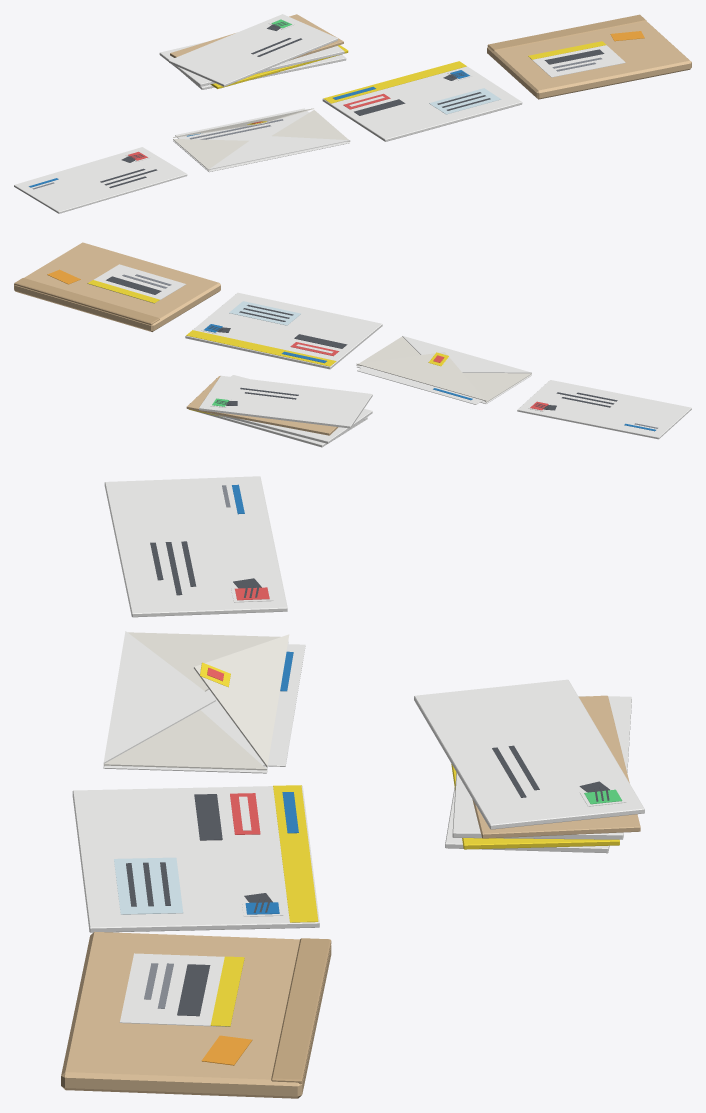
File: lettere_e_busta.fbx
3 views of the same model, one above another, from view 1: azimuth 30°, elevation 25°; view 2: azimuth 150°, elevation 25°; view 3: azimuth 270°, elevation 25° (orthographic). The views are drawn at different scales.
Visible parts, largest first — view 1: Busta_Imb_Corpo, Lettera_Rac_Corpo, Pila_Busta_5, Lettera_Std_Corpo, Busta_Lembo_Basso, Foglio_Lettera_Interno, Busta_Imb_Etichetta, Busta_Imb_Bordo_Top, Busta_Lembo_SX, Busta_Lembo_DX, Lettera_Rac_Banda_Gialla, Pila_Busta_3 (+8 smaller); view 2: Busta_Imb_Corpo, Lettera_Rac_Corpo, Pila_Busta_5, Lettera_Std_Corpo, Busta_Lembo_Chiusura, Busta_Imb_Bordo_Top, Busta_Lembo_Basso, Busta_Imb_Etichetta, Pila_Busta_4, Busta_Lembo_SX, Lettera_Rac_Banda_Gialla, Pila_Busta_3 (+6 smaller); view 3: Busta_Imb_Corpo, Lettera_Rac_Corpo, Pila_Busta_5, Lettera_Std_Corpo, Busta_Lembo_Basso, Busta_Lembo_Chiusura, Busta_Lembo_DX, Busta_Imb_Etichetta, Busta_Imb_Bordo_Top, Pila_Busta_4, Lettera_Rac_Banda_Gialla, Busta_Lembo_SX (+9 smaller).
Part boxes in pixels (x1=…): Busta_Imb_Corpo: x1=487, y1=21, x2=691, y2=99; Lettera_Rac_Corpo: x1=322, y1=66, x2=522, y2=141; Pila_Busta_5: x1=169, y1=14, x2=337, y2=86; Lettera_Std_Corpo: x1=14, y1=147, x2=187, y2=213; Busta_Lembo_Basso: x1=209, y1=135, x2=350, y2=169; Foglio_Lettera_Interno: x1=175, y1=108, x2=309, y2=140; Busta_Imb_Etichetta: x1=529, y1=45, x2=625, y2=77; Busta_Imb_Bordo_Top: x1=487, y1=14, x2=646, y2=50; Busta_Lembo_SX: x1=173, y1=139, x2=248, y2=170; Busta_Lembo_DX: x1=272, y1=110, x2=350, y2=141; Lettera_Rac_Banda_Gialla: x1=323, y1=61, x2=466, y2=103; Pila_Busta_3: x1=159, y1=41, x2=344, y2=86; Busta_Imb_Corpo: x1=14, y1=242, x2=220, y2=331; Lettera_Rac_Corpo: x1=185, y1=292, x2=382, y2=369; Pila_Busta_5: x1=199, y1=375, x2=372, y2=428; Lettera_Std_Corpo: x1=517, y1=380, x2=691, y2=439; Busta_Lembo_Chiusura: x1=356, y1=352, x2=485, y2=400; Busta_Imb_Bordo_Top: x1=14, y1=278, x2=159, y2=325; Busta_Lembo_Basso: x1=402, y1=336, x2=531, y2=373; Busta_Imb_Etichetta: x1=87, y1=264, x2=186, y2=303; Pila_Busta_4: x1=186, y1=376, x2=338, y2=435; Busta_Lembo_SX: x1=463, y1=373, x2=531, y2=402; Lettera_Rac_Banda_Gialla: x1=186, y1=330, x2=336, y2=366; Pila_Busta_3: x1=210, y1=375, x2=372, y2=443; Busta_Imb_Corpo: x1=61, y1=931, x2=331, y2=1098; Lettera_Rac_Corpo: x1=72, y1=785, x2=319, y2=932; Pila_Busta_5: x1=414, y1=679, x2=644, y2=829; Lettera_Std_Corpo: x1=104, y1=476, x2=287, y2=617; Busta_Lembo_Basso: x1=103, y1=631, x2=215, y2=763; Busta_Lembo_Chiusura: x1=194, y1=634, x2=289, y2=766; Busta_Lembo_DX: x1=103, y1=710, x2=266, y2=770; Busta_Imb_Etichetta: x1=119, y1=953, x2=243, y2=1026; Busta_Imb_Bordo_Top: x1=271, y1=938, x2=331, y2=1084; Pila_Busta_4: x1=472, y1=695, x2=640, y2=838; Lettera_Rac_Banda_Gialla: x1=273, y1=785, x2=318, y2=922; Busta_Lembo_SX: x1=128, y1=632, x2=280, y2=691.
Bounding box in the file's own units: 103 × 2.98 × 40.99.
